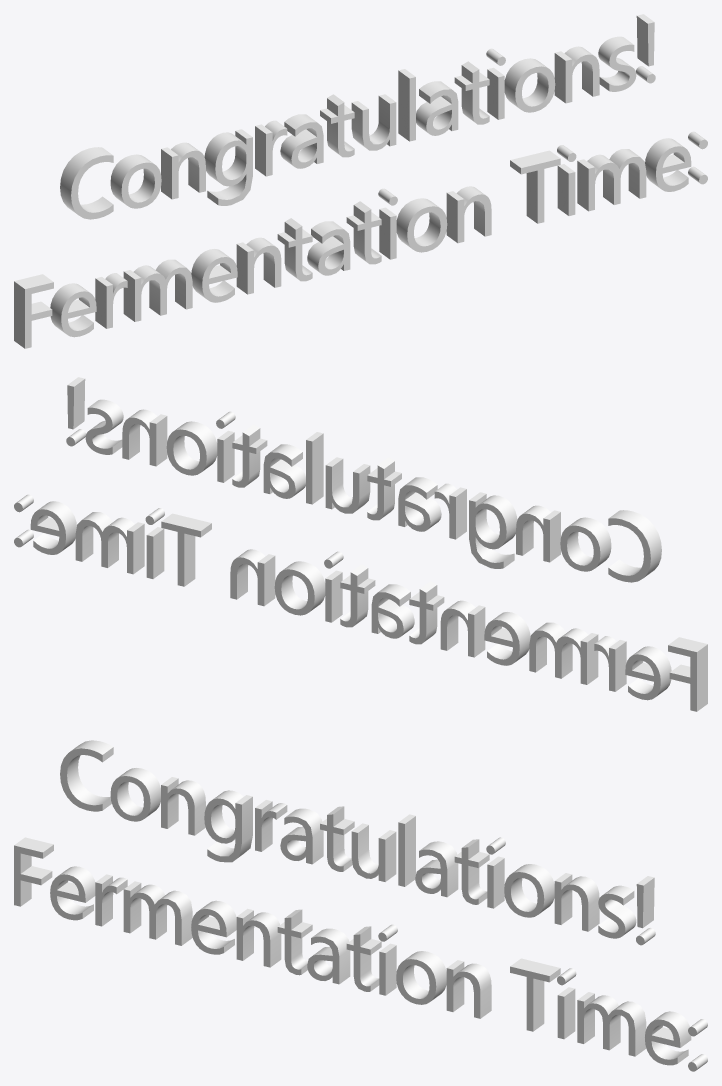
The model's file is Congratulations.fbx.
3 renders of one model, top to bottom at view 1: azimuth 30°, elevation 25°; view 2: azimuth 150°, elevation 25°; view 3: azimuth 330°, elevation 25°, orthographic.
Visible parts, largest first — view 1: node_id56 (×2); view 2: node_id56 (×2); view 3: node_id56 (×2).
Part boxes in pixels (box(x1,y1,x2,y2)): node_id56 (×2): box(14, 14, 707, 348); node_id56 (×2): box(14, 377, 707, 711); node_id56 (×2): box(14, 740, 707, 1071).
Size of the model in its own units: 0.6692 by 0.1663 by 0.0188.
2 materials, 2 textured.
